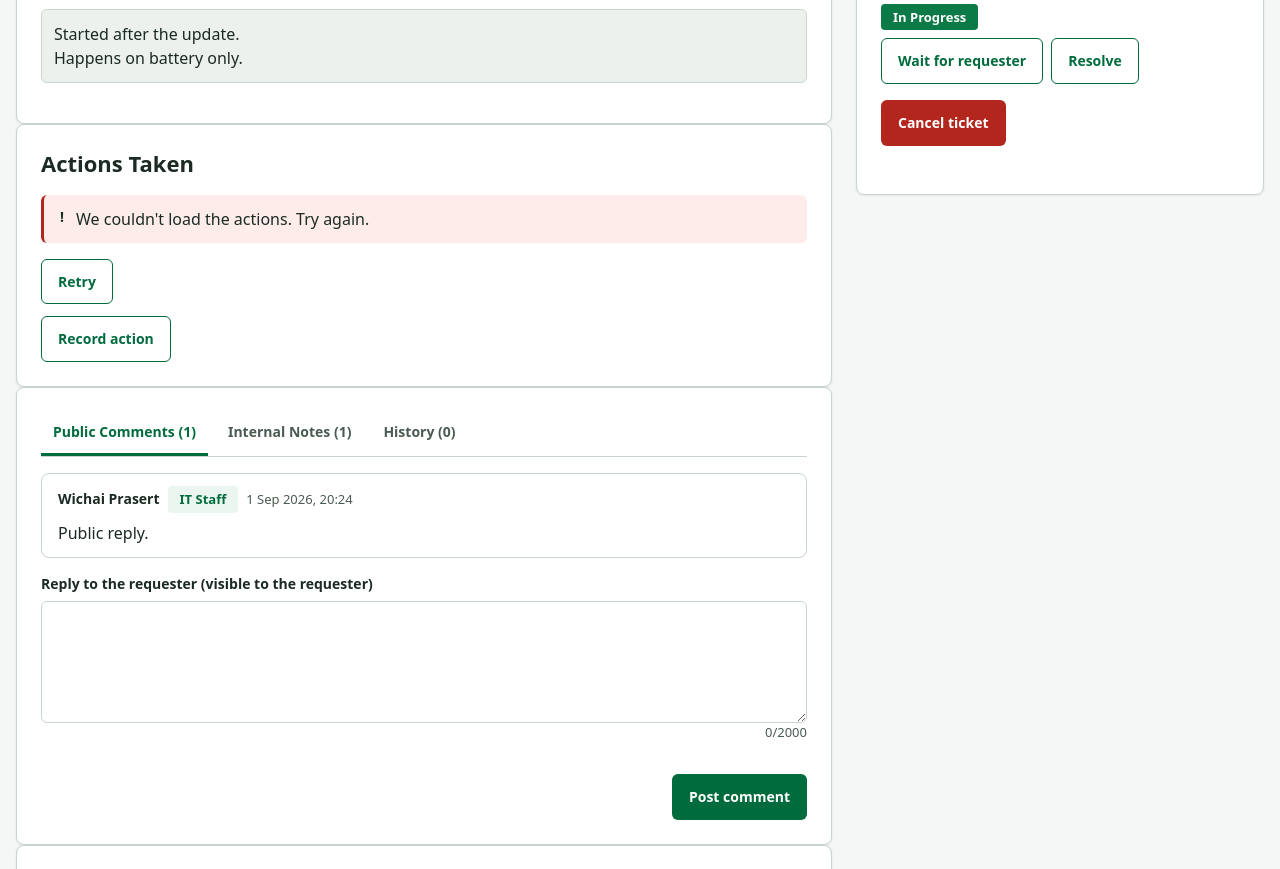
Test case: STY-05 (ui-spec 2) - at most one visible primary button › Staff Ticket Detail has exactly one primary in each composer tab
(page scrolled)
Check: the number of buttons with class "zg-btn--primary" is 1, box [672,774,807,820]
Click the tab with test id "tab-notes" at (290, 434), box [216,412,363,456]
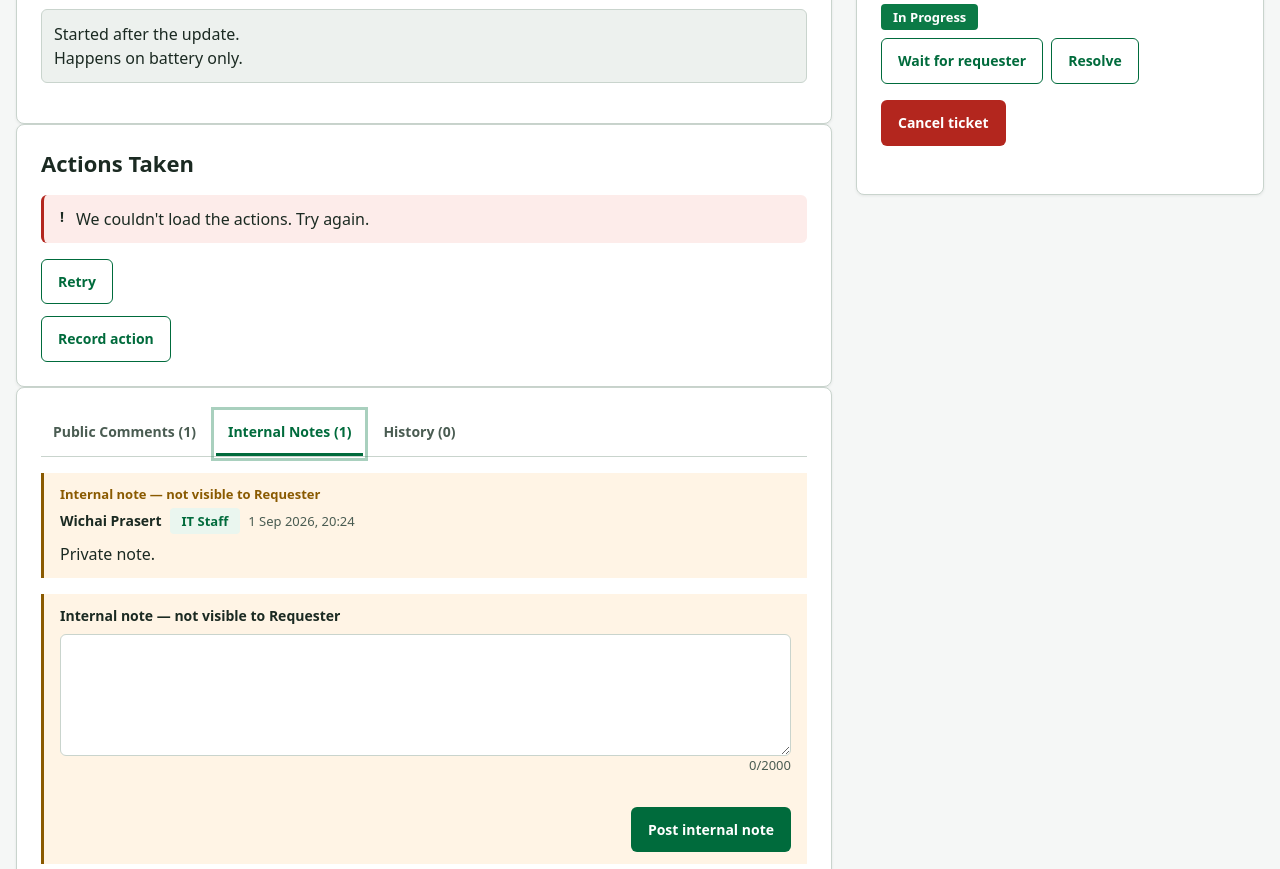
Check: the number of buttons with class "zg-btn--primary" is 1, box [631,807,791,852]
